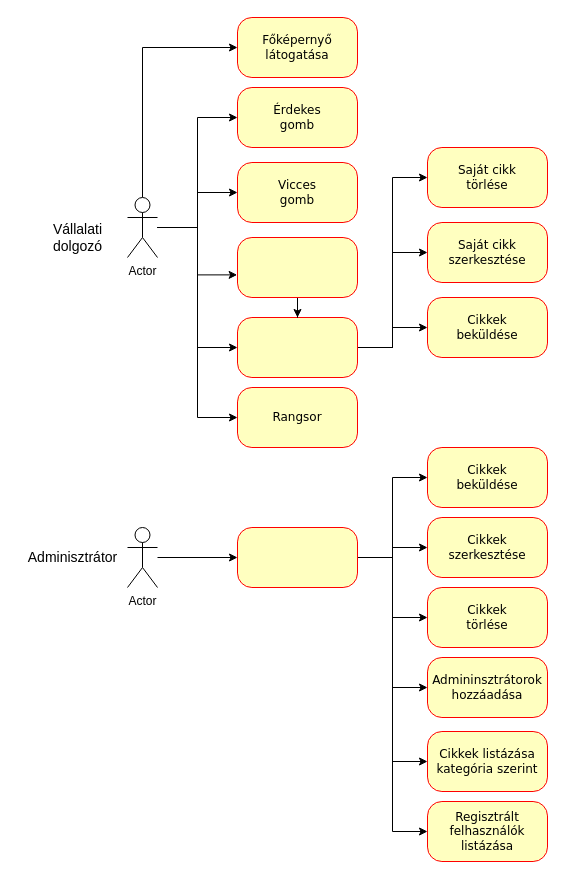
Image size: 565x879. Some labels were removed from this diagram. Each missing label, with the box of its shape:
Adminisztrátor bejelentkező: (236, 526, 358, 588)
Belépés: (236, 316, 358, 378)
Regisztráció: (236, 236, 358, 298)
